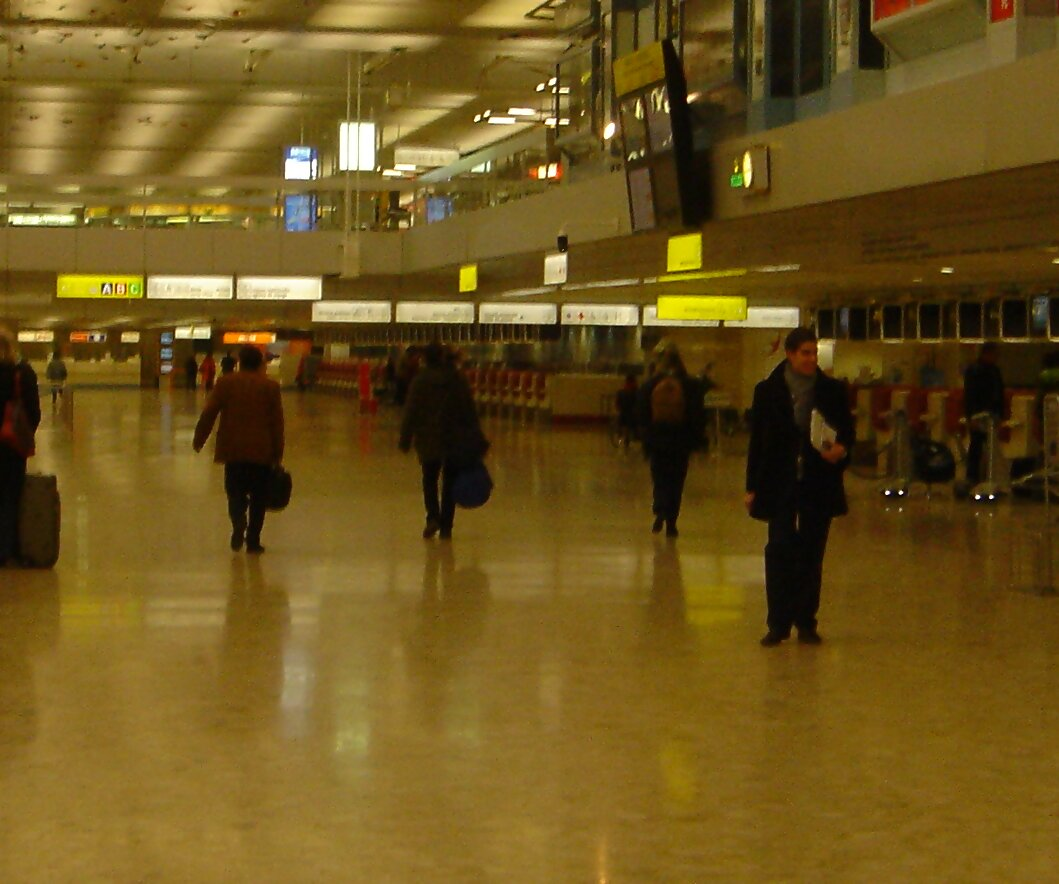person: (741, 325, 874, 648), (182, 343, 304, 556), (393, 331, 504, 558), (627, 329, 728, 546)
